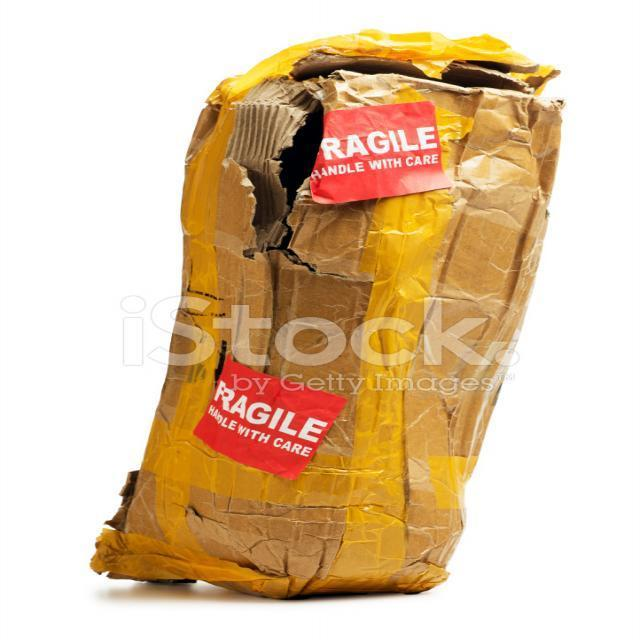hole: (233, 102, 329, 274)
